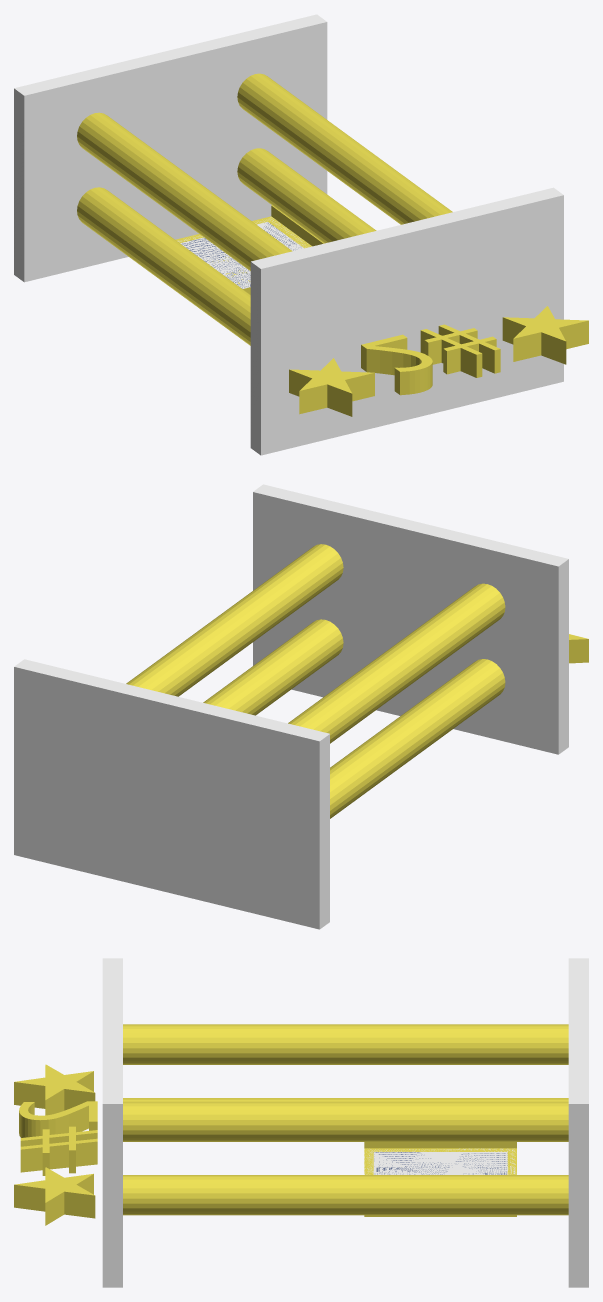
3 views of the same model, one above another, from view 1: azimuth 30°, elevation 25°; view 2: azimuth 150°, elevation 25°; view 3: azimuth 270°, elevation 25° (orthographic). The views are drawn at different scales.
Parts seen in each view (by area): view 1: trophy; view 2: trophy; view 3: trophy.
Part boxes in pixels (x1,y1,x2,y2): trophy: (14,14,588,455); trophy: (14,484,588,929); trophy: (14,958,588,1287).
Size of the model in its own units: 4.25 by 2.5 by 7.1.
